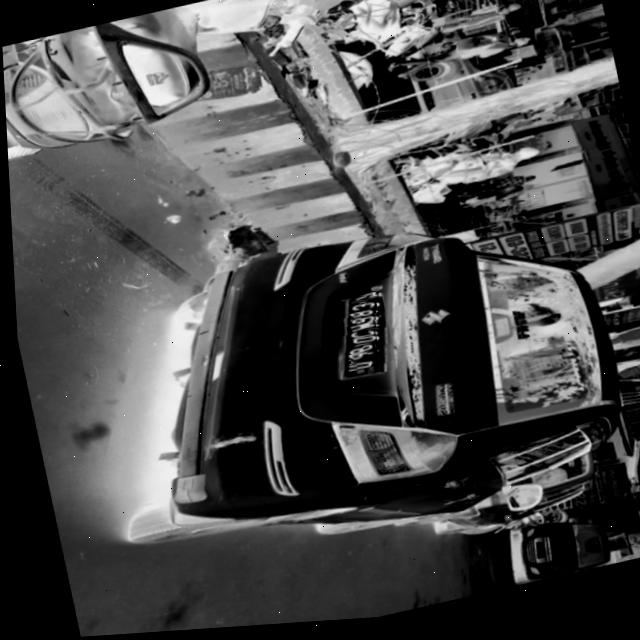0: (345, 339, 372, 353)
3: (345, 305, 373, 319)
4: (346, 297, 375, 309)
8: (343, 347, 371, 360), (344, 314, 372, 324)
9: (345, 318, 371, 330)
C: (344, 333, 371, 347)
IND: (349, 369, 375, 382)
Indian_registered: (338, 299, 380, 382)
M: (342, 326, 372, 339)
P: (342, 355, 372, 368)
U: (339, 361, 373, 377)
